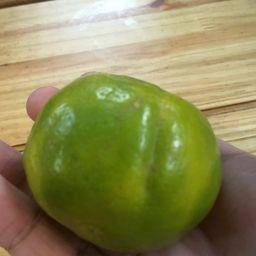Unripe: (21, 74, 225, 254)
